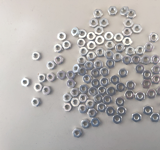nut: (143, 106, 154, 116), (132, 113, 143, 123), (149, 33, 160, 43), (122, 27, 133, 37), (94, 25, 105, 35), (116, 106, 127, 116), (113, 115, 123, 125), (91, 118, 101, 128), (81, 119, 91, 129), (147, 89, 157, 99), (136, 64, 146, 74), (133, 24, 143, 34), (124, 18, 134, 28), (104, 31, 114, 41), (108, 6, 118, 16), (118, 68, 128, 78), (122, 55, 132, 65), (136, 46, 146, 56), (125, 90, 135, 100), (57, 70, 67, 80), (21, 78, 31, 88), (120, 6, 130, 16), (106, 107, 116, 117), (93, 9, 104, 18), (104, 50, 115, 59), (105, 59, 116, 68), (144, 43, 155, 52), (115, 98, 126, 107), (73, 129, 83, 138), (55, 55, 64, 65), (114, 33, 124, 42), (123, 37, 133, 46), (87, 41, 97, 50), (94, 60, 104, 69), (110, 75, 120, 84), (126, 81, 136, 90), (136, 92, 146, 101), (88, 109, 98, 118), (103, 95, 113, 104), (79, 85, 89, 94), (83, 75, 93, 84), (67, 79, 77, 88), (86, 100, 96, 109), (100, 78, 110, 87), (100, 68, 110, 77), (91, 69, 101, 78), (87, 52, 97, 61), (77, 38, 86, 48), (71, 27, 80, 37), (63, 40, 72, 50), (127, 9, 137, 18), (63, 93, 72, 103), (142, 80, 152, 89), (79, 47, 89, 56), (142, 55, 151, 65), (89, 87, 98, 97), (115, 44, 125, 53), (89, 18, 99, 27), (103, 95, 112, 105), (96, 48, 106, 57), (113, 53, 123, 62), (94, 94, 103, 104), (151, 113, 160, 122), (57, 32, 66, 41), (78, 29, 87, 38), (54, 44, 63, 53), (32, 52, 41, 61), (47, 61, 56, 70), (42, 86, 51, 95), (63, 103, 72, 112), (78, 56, 87, 65), (79, 105, 88, 114), (96, 36, 105, 45), (79, 94, 88, 103), (71, 98, 80, 107), (107, 87, 116, 96), (73, 65, 82, 74), (98, 87, 107, 96), (126, 46, 135, 55), (106, 41, 115, 50), (152, 64, 160, 74), (152, 75, 160, 85), (152, 55, 160, 65), (31, 99, 41, 107), (98, 103, 106, 113), (67, 71, 75, 80), (100, 19, 109, 27), (47, 73, 55, 82), (38, 74, 46, 83), (117, 83, 125, 92), (91, 79, 100, 87), (133, 56, 141, 65), (85, 62, 94, 70), (87, 33, 96, 41), (34, 84, 42, 92), (71, 89, 79, 97), (144, 71, 151, 78), (157, 87, 160, 96)
